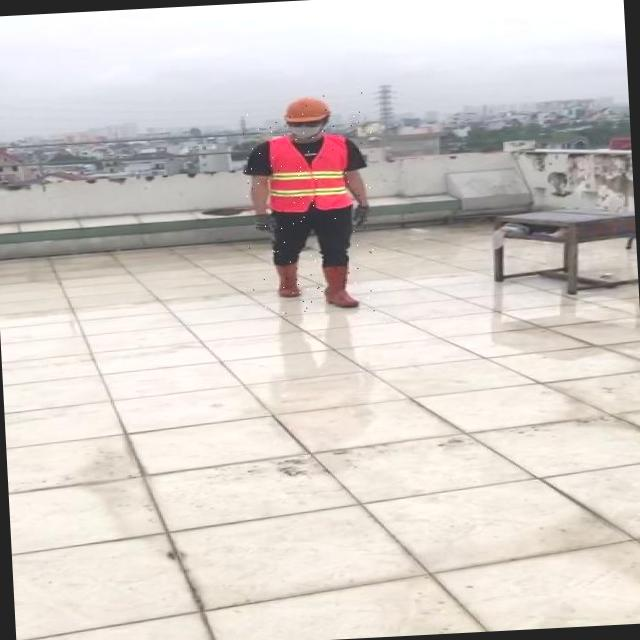boots: (322, 264, 360, 308), (272, 259, 304, 299)
helmet: (282, 96, 331, 122)
vest: (266, 132, 352, 215)
